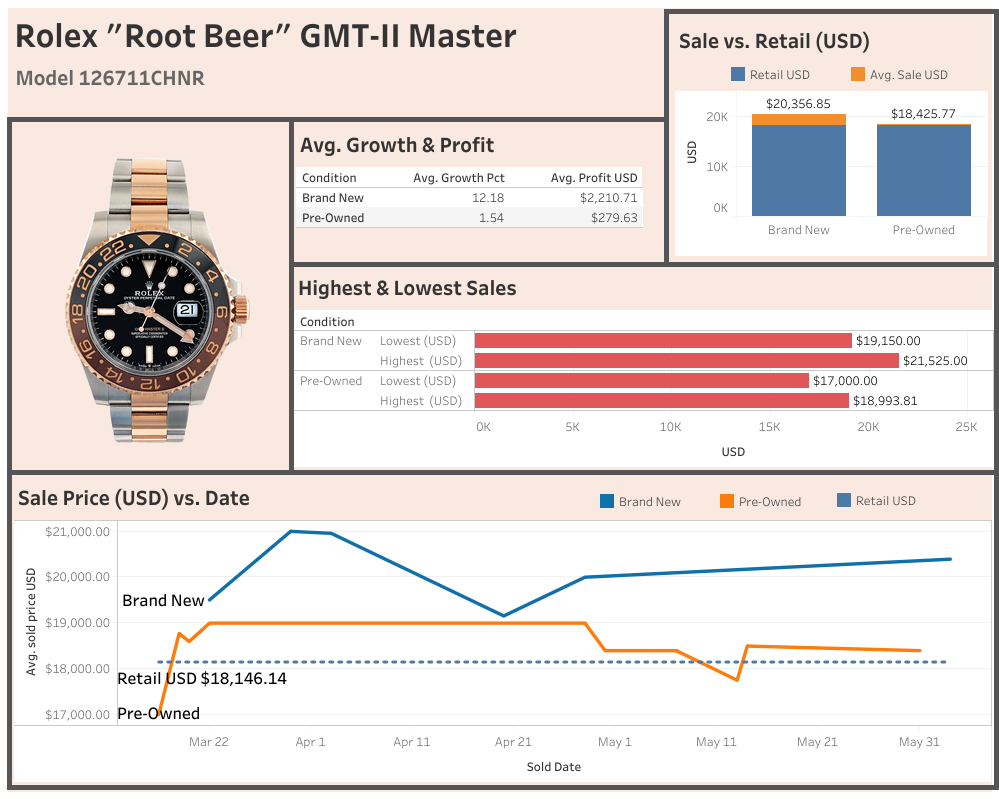

The dashboard page shown, as its layout file describes it:
{"tool":"tableau","page":{"name":"Rolex \"Root Beer\" GMT-II Master","canvas":[1000,800],"ordinal":0},"visuals":[{"type":"title","box":[8,8,984,52]},{"type":"worksheet","title":"Sale vs. Retail (USD)","mark":"Automatic","cols":["condition"],"box":[664,9,335,258]},{"type":"text","box":[13,62,196,30]},{"type":"image","param":"Image/126711CHNR_312103456Face_CLEAN_3.png","box":[7,117,287,358]},{"type":"worksheet","title":"Avg. Growth & Profit","mark":"Automatic","rows":["condition"],"box":[289,117,380,150]},{"type":"worksheet","title":"Highest & Lowest Sales","mark":"Automatic","rows":["condition"],"box":[289,262,713,213]},{"type":"worksheet","title":"Sale Price (USD) vs. Date","mark":"Line","rows":["sold_price_USD","retail_USD"],"cols":["sold_date"],"box":[7,470,992,320]},{"type":"legend","title":"Sale Price (USD) vs. Date","param":"[federated.0q3ct8i1t9tgai13ozf3e1nu7xy9].[:Measure Names]","box":[834,490,141,39]},{"type":"legend","title":"Sale Price (USD) vs. Date","param":"[federated.0q3ct8i1t9tgai13ozf3e1nu7xy9].[none:condition:nk]","box":[597,491,218,47]},{"type":"text","box":[867,528,116,18]}]}

Visuals, with their boxes in screenshot pixels (x1, y1, x2, y2), scaled from the page's 1000x800 canvas onto the 999x799 screenshot:
title: l=8, t=8, r=991, b=60
"Sale vs. Retail (USD)" worksheet: l=663, t=9, r=998, b=267
text: l=13, t=62, r=209, b=92
image: l=7, t=117, r=294, b=474
"Avg. Growth & Profit" worksheet: l=289, t=117, r=668, b=267
"Highest & Lowest Sales" worksheet: l=289, t=262, r=998, b=474
"Sale Price (USD) vs. Date" worksheet (Line marks): l=7, t=469, r=998, b=789
"Sale Price (USD) vs. Date" legend: l=833, t=489, r=974, b=528
"Sale Price (USD) vs. Date" legend: l=596, t=490, r=814, b=537
text: l=866, t=527, r=982, b=545
